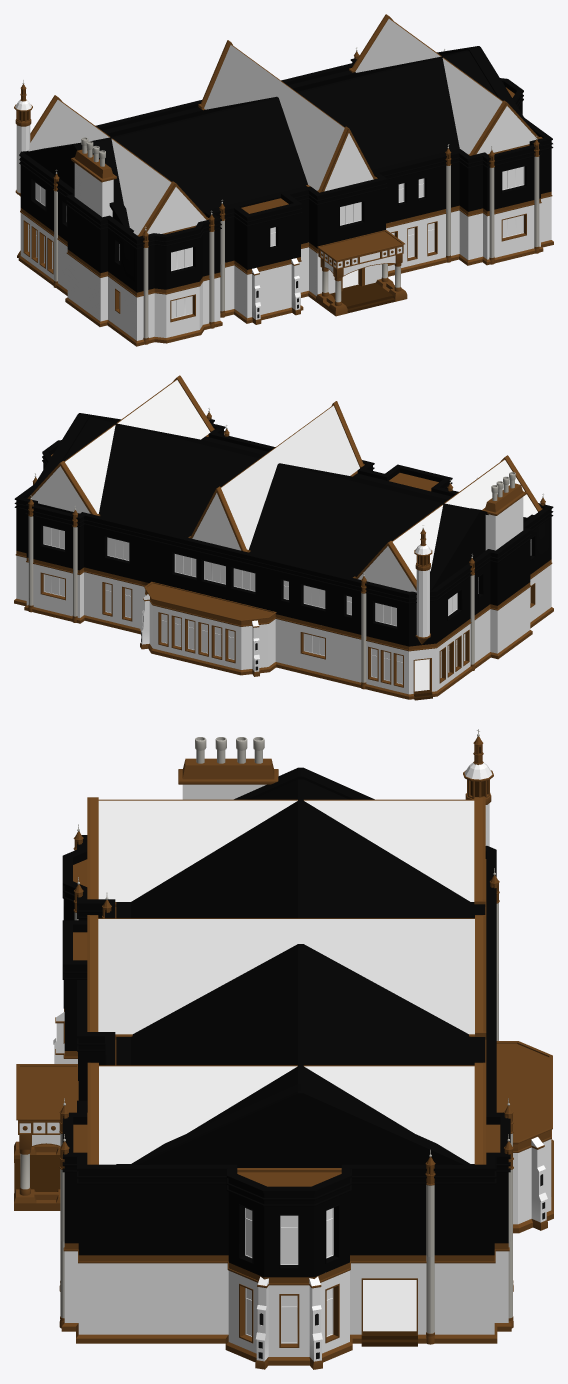
The model's file is ManorText.fbx.
3 views of the same model, one above another, from view 1: azimuth 30°, elevation 25°; view 2: azimuth 150°, elevation 25°; view 3: azimuth 270°, elevation 25° (orthographic). The views are drawn at different scales.
Visible parts, largest first — view 1: Roof, First Floor, Ground floor, Floor, Floor 002; view 2: Roof, First Floor, Ground floor, Floor, Floor 002; view 3: Roof, Ground floor, First Floor, Floor, Floor 002.
Part boxes in pixels (left/top/right/bottom): Roof: left=24, top=14, right=542, bottom=236; First Floor: left=14, top=49, right=553, bottom=292; Ground floor: left=18, top=47, right=553, bottom=346; Floor: left=17, top=250, right=395, bottom=313; Floor 002: left=165, top=87, right=529, bottom=234; Roof: left=25, top=375, right=542, bottom=592; First Floor: left=14, top=408, right=553, bottom=646; Ground floor: left=14, top=506, right=553, bottom=699; Floor: left=414, top=659, right=432, bottom=700; Floor 002: left=51, top=454, right=438, bottom=491; Roof: left=87, top=737, right=486, bottom=1172; Ground floor: left=14, top=903, right=553, bottom=1369; First Floor: left=59, top=729, right=513, bottom=1277; Floor: left=14, top=1155, right=417, bottom=1346; Floor 002: left=73, top=859, right=500, bottom=1186.
Size of the model in its own units: 1210 by 442 by 752.
